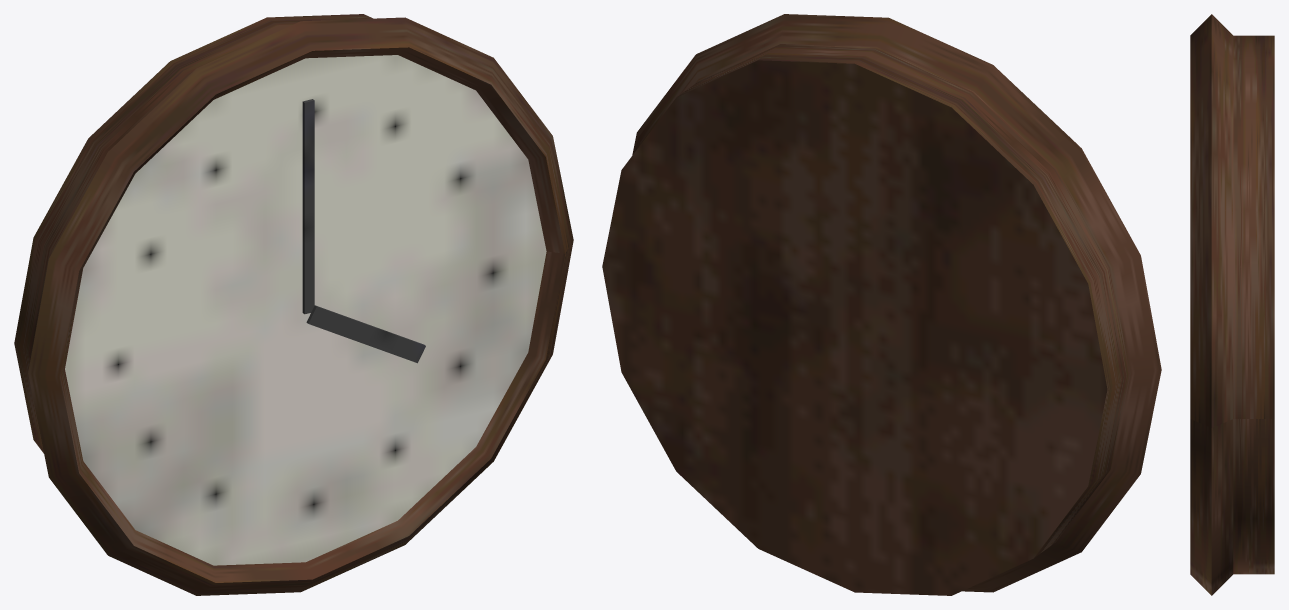
Rendered from wall_clock.obj.
3 views of the same model, side by side, from view 1: azimuth 30°, elevation 25°; view 2: azimuth 150°, elevation 25°; view 3: azimuth 270°, elevation 25° (orthographic). The views are drawn at different scales.
Visible parts, largest first — view 1: wall_clock, wall_clock_minute, wall_clock_hour; view 2: wall_clock; view 3: wall_clock.
Part boxes in pixels (<box>): wall_clock: <box>14,14,573,595</box>; wall_clock_minute: <box>302,99,314,314</box>; wall_clock_hour: <box>306,305,425,363</box>; wall_clock: <box>602,14,1161,595</box>; wall_clock: <box>1190,14,1274,595</box>.
Size of the model in its own units: 0.324 by 0.324 by 0.047.
Materials: 1 (1 with a texture image).
